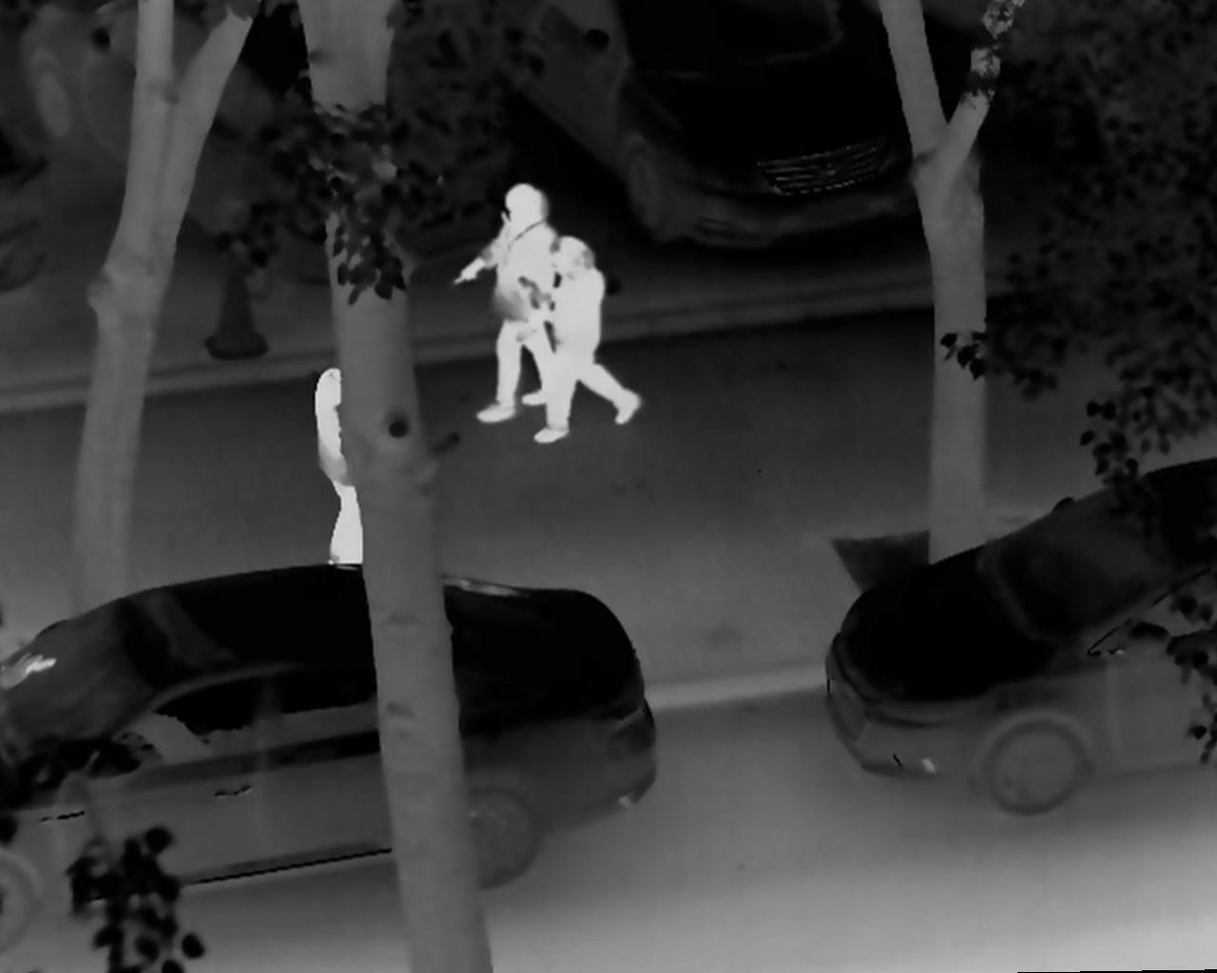person: (459, 181, 567, 428), (522, 237, 639, 448), (310, 348, 377, 583)
